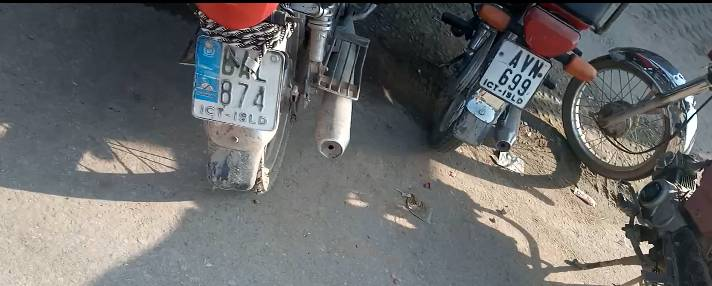number_plate: (194, 37, 280, 136), (481, 36, 549, 113)
